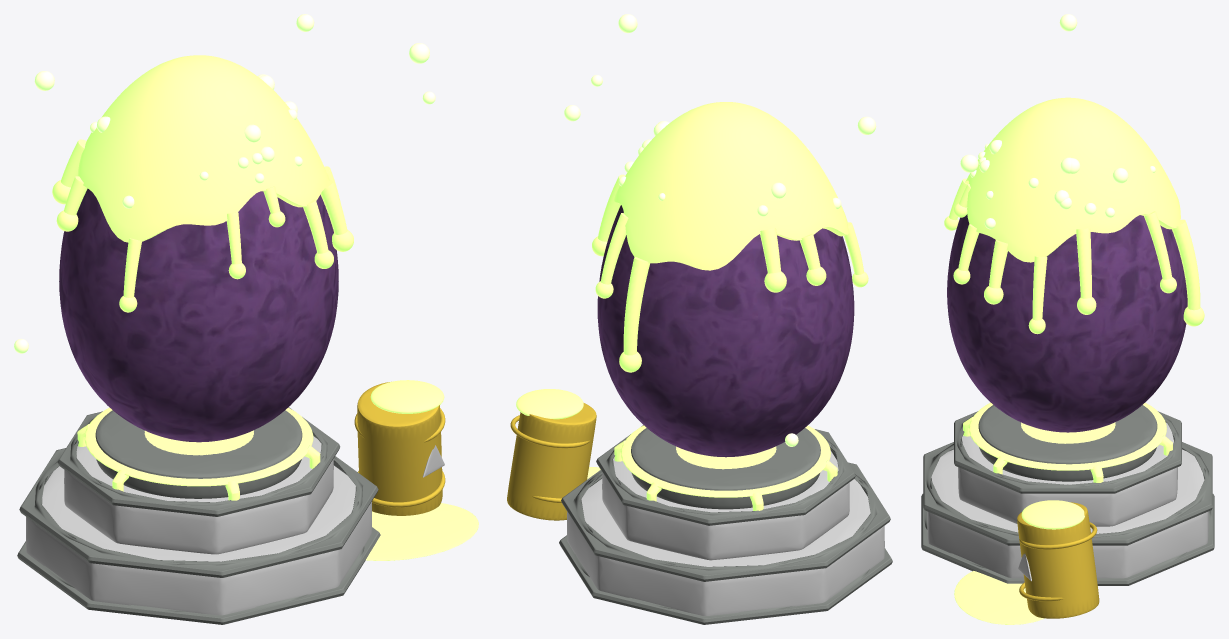
The model's file is toxicwasteegg.glb.
3 views of the same model, side by side, from view 1: azimuth 30°, elevation 25°; view 2: azimuth 150°, elevation 25°; view 3: azimuth 270°, elevation 25° (orthographic). The views are drawn at different scales.
Visible parts, largest first — view 1: ToxicWasteEgg_Body, ToxicWasteEgg_SlimeCap, ToxicWasteEgg_HazardStand, ToxicWasteEgg_HazardStand.001, ToxicWasteEgg_StandCup, ToxicWasteEgg_ToxicBarrel, ToxicWasteEgg_StandTrim, ToxicWasteEgg_StandTrim.001, ToxicWasteEgg_FloorPuddle, ToxicWasteEgg_SlimePuddle, ToxicWasteEgg_StandTrim.002, ToxicWasteEgg_BarrelSlime (+3 smaller); view 2: ToxicWasteEgg_Body, ToxicWasteEgg_SlimeCap, ToxicWasteEgg_HazardStand, ToxicWasteEgg_HazardStand.001, ToxicWasteEgg_StandCup, ToxicWasteEgg_ToxicBarrel, ToxicWasteEgg_StandTrim, ToxicWasteEgg_StandTrim.001, ToxicWasteEgg_SlimePuddle, ToxicWasteEgg_StandTrim.002, ToxicWasteEgg_BarrelSlime, ToxicWasteEgg_SlimeDrip.002 (+4 smaller); view 3: ToxicWasteEgg_Body, ToxicWasteEgg_SlimeCap, ToxicWasteEgg_HazardStand, ToxicWasteEgg_HazardStand.001, ToxicWasteEgg_StandCup, ToxicWasteEgg_ToxicBarrel, ToxicWasteEgg_StandTrim, ToxicWasteEgg_StandTrim.001, ToxicWasteEgg_SlimePuddle, ToxicWasteEgg_FloorPuddle, ToxicWasteEgg_StandTrim.002, ToxicWasteEgg_BarrelSlime (+7 smaller).
Boxes of the visible parts, x1,y1,x2,y2 form: ToxicWasteEgg_Body: [59, 188, 338, 442]; ToxicWasteEgg_SlimeCap: [78, 55, 329, 242]; ToxicWasteEgg_HazardStand: [26, 466, 371, 615]; ToxicWasteEgg_HazardStand.001: [64, 436, 333, 554]; ToxicWasteEgg_StandCup: [95, 410, 302, 498]; ToxicWasteEgg_ToxicBarrel: [357, 382, 442, 515]; ToxicWasteEgg_StandTrim: [19, 448, 378, 577]; ToxicWasteEgg_StandTrim.001: [57, 407, 340, 516]; ToxicWasteEgg_FloorPuddle: [366, 503, 478, 560]; ToxicWasteEgg_SlimePuddle: [84, 407, 313, 486]; ToxicWasteEgg_StandTrim.002: [17, 527, 380, 624]; ToxicWasteEgg_BarrelSlime: [370, 380, 444, 413]; ToxicWasteEgg_Body: [597, 205, 854, 457]; ToxicWasteEgg_SlimeCap: [614, 102, 849, 270]; ToxicWasteEgg_HazardStand: [567, 478, 884, 615]; ToxicWasteEgg_HazardStand.001: [602, 451, 849, 560]; ToxicWasteEgg_StandCup: [631, 428, 820, 509]; ToxicWasteEgg_ToxicBarrel: [507, 403, 596, 520]; ToxicWasteEgg_StandTrim: [561, 462, 890, 581]; ToxicWasteEgg_StandTrim.001: [596, 425, 855, 525]; ToxicWasteEgg_SlimePuddle: [621, 425, 830, 497]; ToxicWasteEgg_StandTrim.002: [559, 535, 892, 624]; ToxicWasteEgg_BarrelSlime: [516, 389, 583, 419]; ToxicWasteEgg_SlimeDrip.002: [623, 257, 649, 355]; ToxicWasteEgg_Body: [947, 214, 1187, 432]; ToxicWasteEgg_SlimeCap: [965, 97, 1180, 262]; ToxicWasteEgg_HazardStand: [927, 449, 1208, 578]; ToxicWasteEgg_HazardStand.001: [958, 422, 1177, 526]; ToxicWasteEgg_StandCup: [978, 405, 1157, 481]; ToxicWasteEgg_ToxicBarrel: [1017, 502, 1099, 618]; ToxicWasteEgg_StandTrim: [923, 442, 1212, 545]; ToxicWasteEgg_StandTrim.001: [954, 411, 1181, 493]; ToxicWasteEgg_SlimePuddle: [969, 402, 1166, 470]; ToxicWasteEgg_FloorPuddle: [954, 571, 1044, 624]; ToxicWasteEgg_StandTrim.002: [921, 494, 1214, 585]; ToxicWasteEgg_BarrelSlime: [1021, 500, 1084, 529].
Size of the model in its own units: 4.22 by 5.18 by 3.08.
6 materials, 1 textured.
